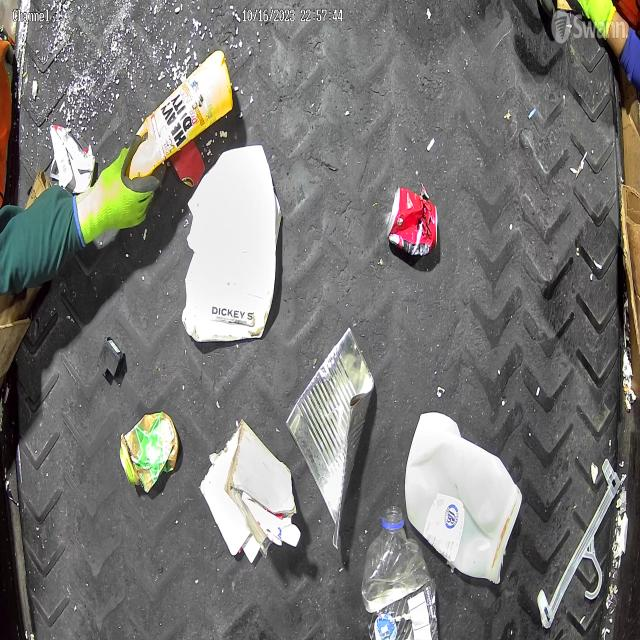can: (386, 187, 438, 257)
milk_jug: (404, 412, 523, 586)
non_white_jug: (128, 49, 234, 178)
plastic_bottle: (361, 505, 439, 640)
